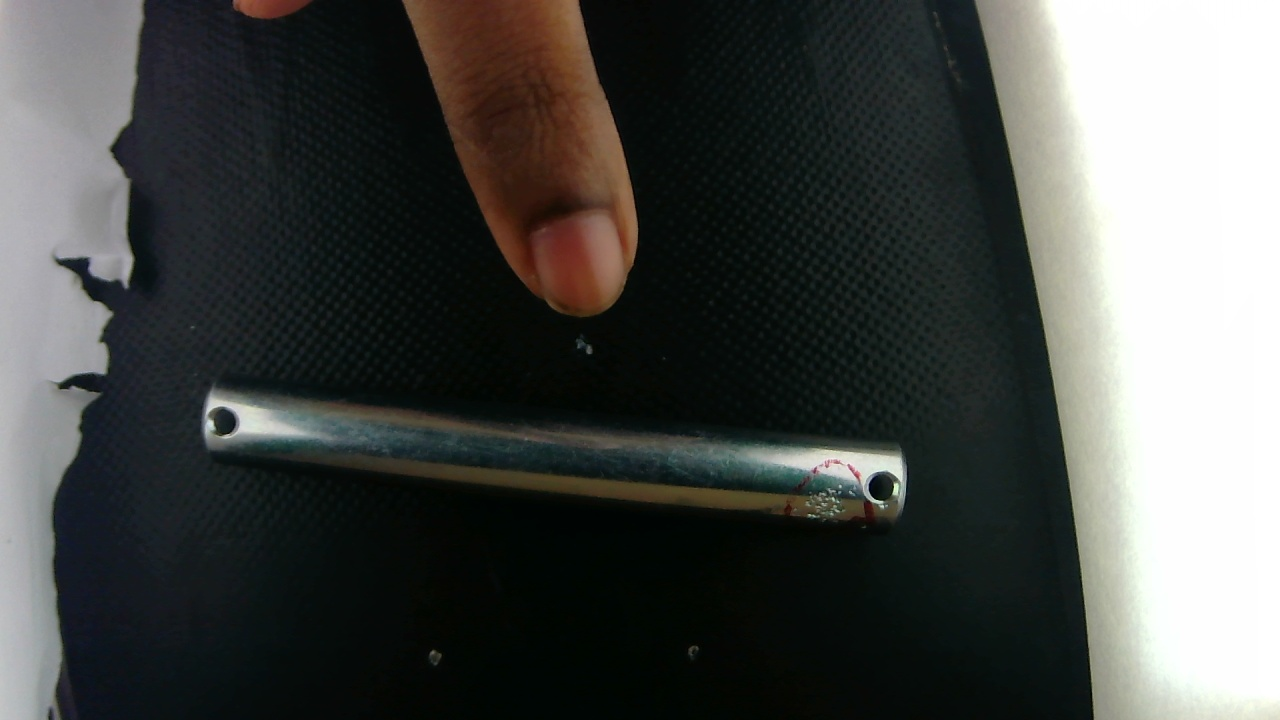pitmark_pin: (799, 479, 866, 527)
